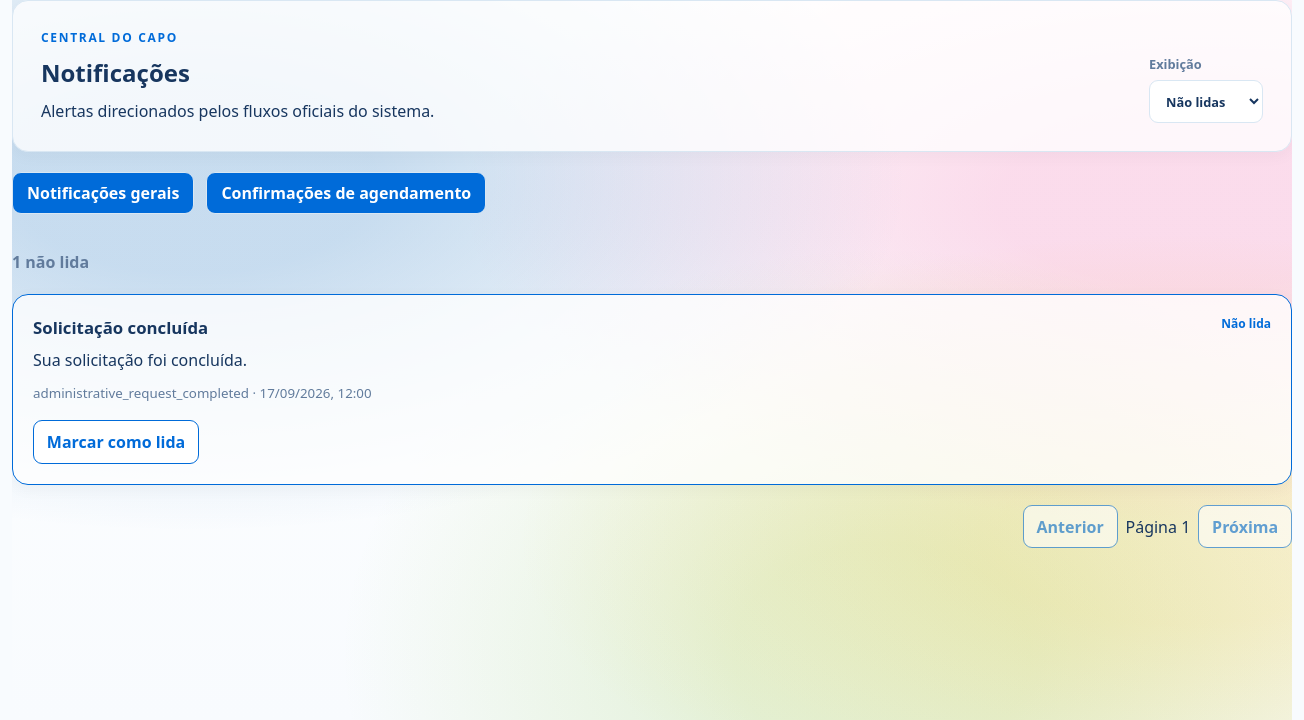
Scenario: NotificationsPage › não informa leitura concluída quando RPC retorna vazio
Click the button "Marcar como lida" at point(116, 442), box [33,420,199,464]
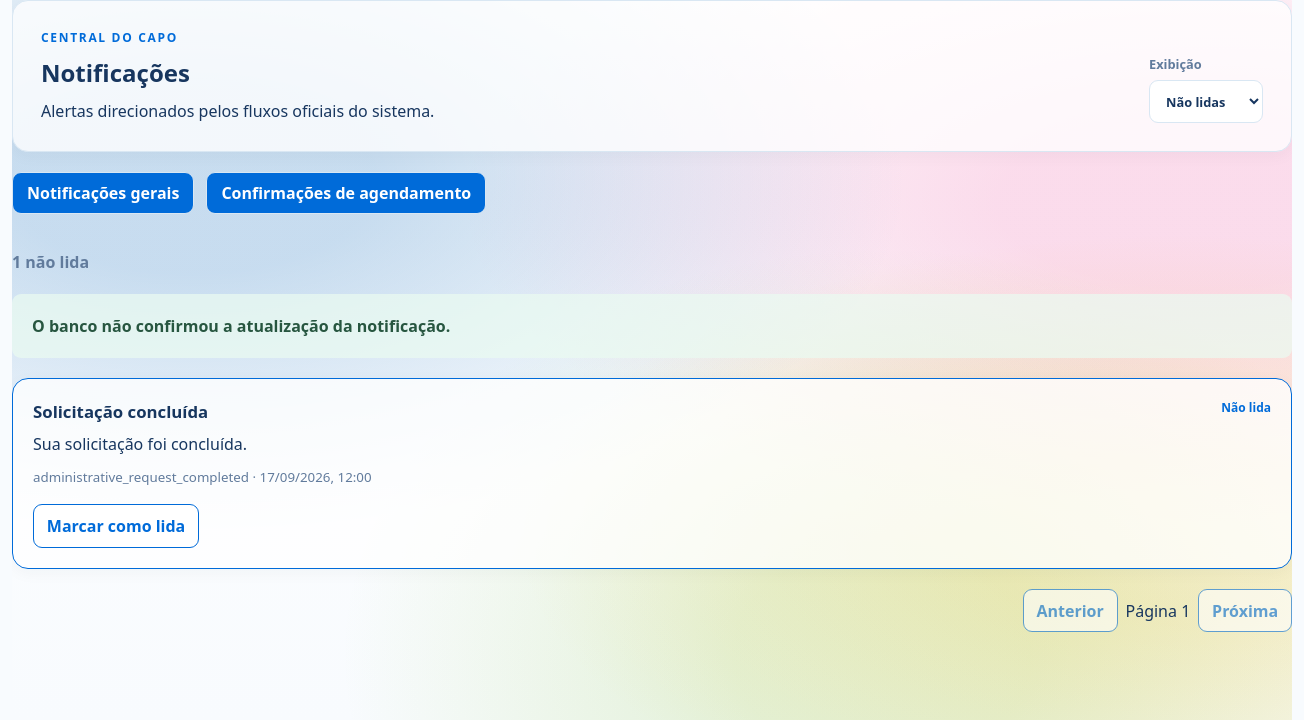
Expected: the message reads "O banco não confirmou a atualização da notificação.", [32,315,450,337]
